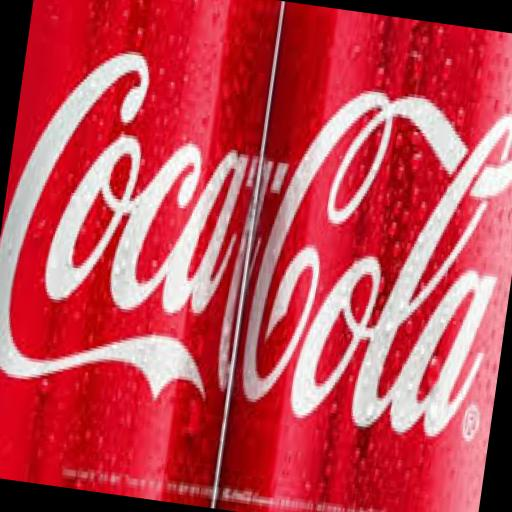Coca: (213, 1, 512, 512), (0, 0, 284, 508)
